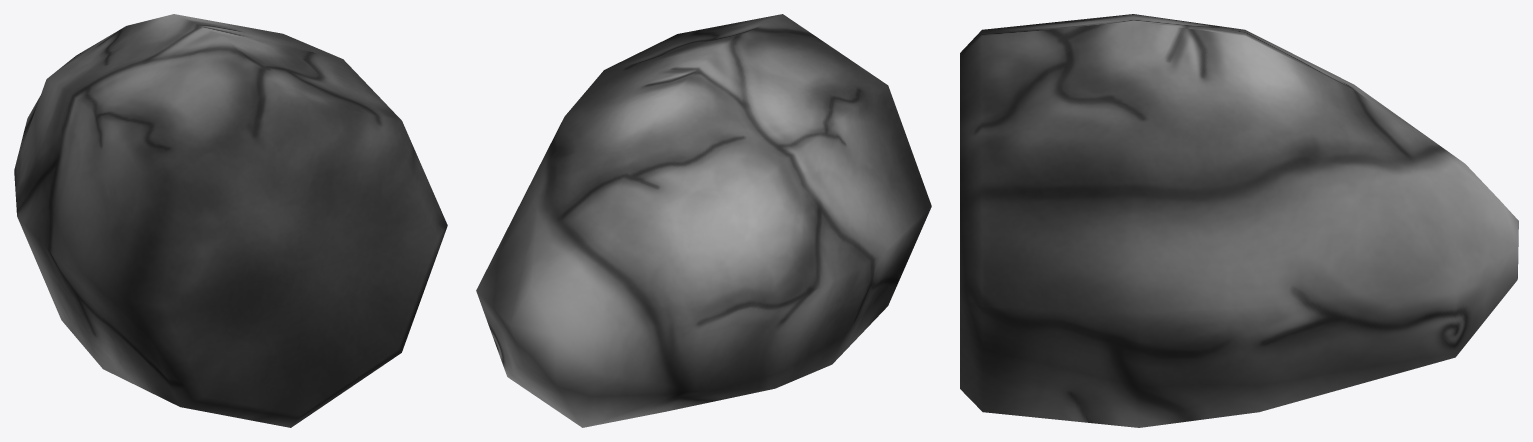
The model's file is Rock_b.fbx.
The picture shows the model from 3 angles, left to right: view 1: azimuth 30°, elevation 25°; view 2: azimuth 150°, elevation 25°; view 3: azimuth 270°, elevation 25°; orthographic projection. The views are drawn at different scales.
Visible parts, largest first — view 1: Rock_b; view 2: Rock_b; view 3: Rock_b.
Boxes of the visible parts, x1,y1,x2,y2 form: Rock_b: (14,14,447,427); Rock_b: (476,14,931,427); Rock_b: (960,14,1518,427).
Bounding box in the file's own units: 260 × 260 × 330.
